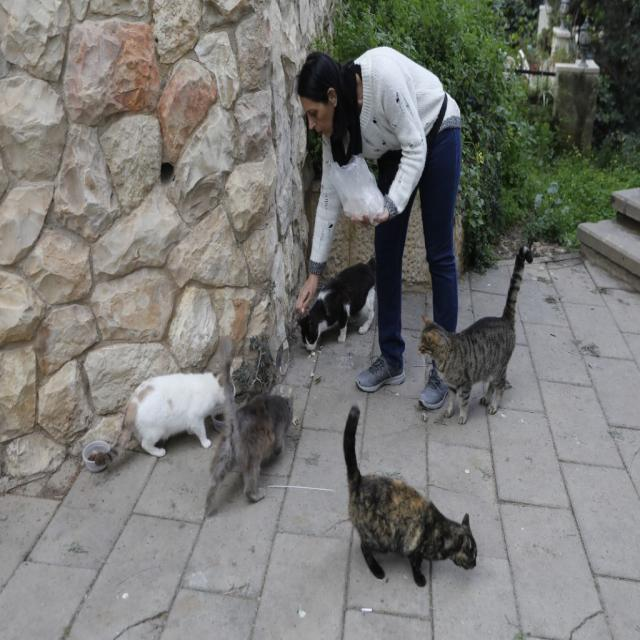cat: (344, 405, 478, 586), (419, 246, 532, 423), (205, 338, 292, 513), (90, 373, 226, 466), (298, 257, 376, 351)
